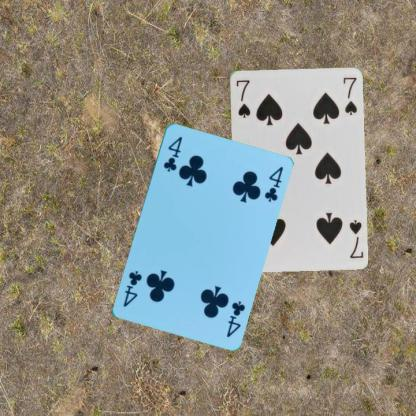4c: (160, 133, 184, 173), (224, 298, 246, 338)
7s: (233, 77, 252, 119), (346, 216, 364, 260)
